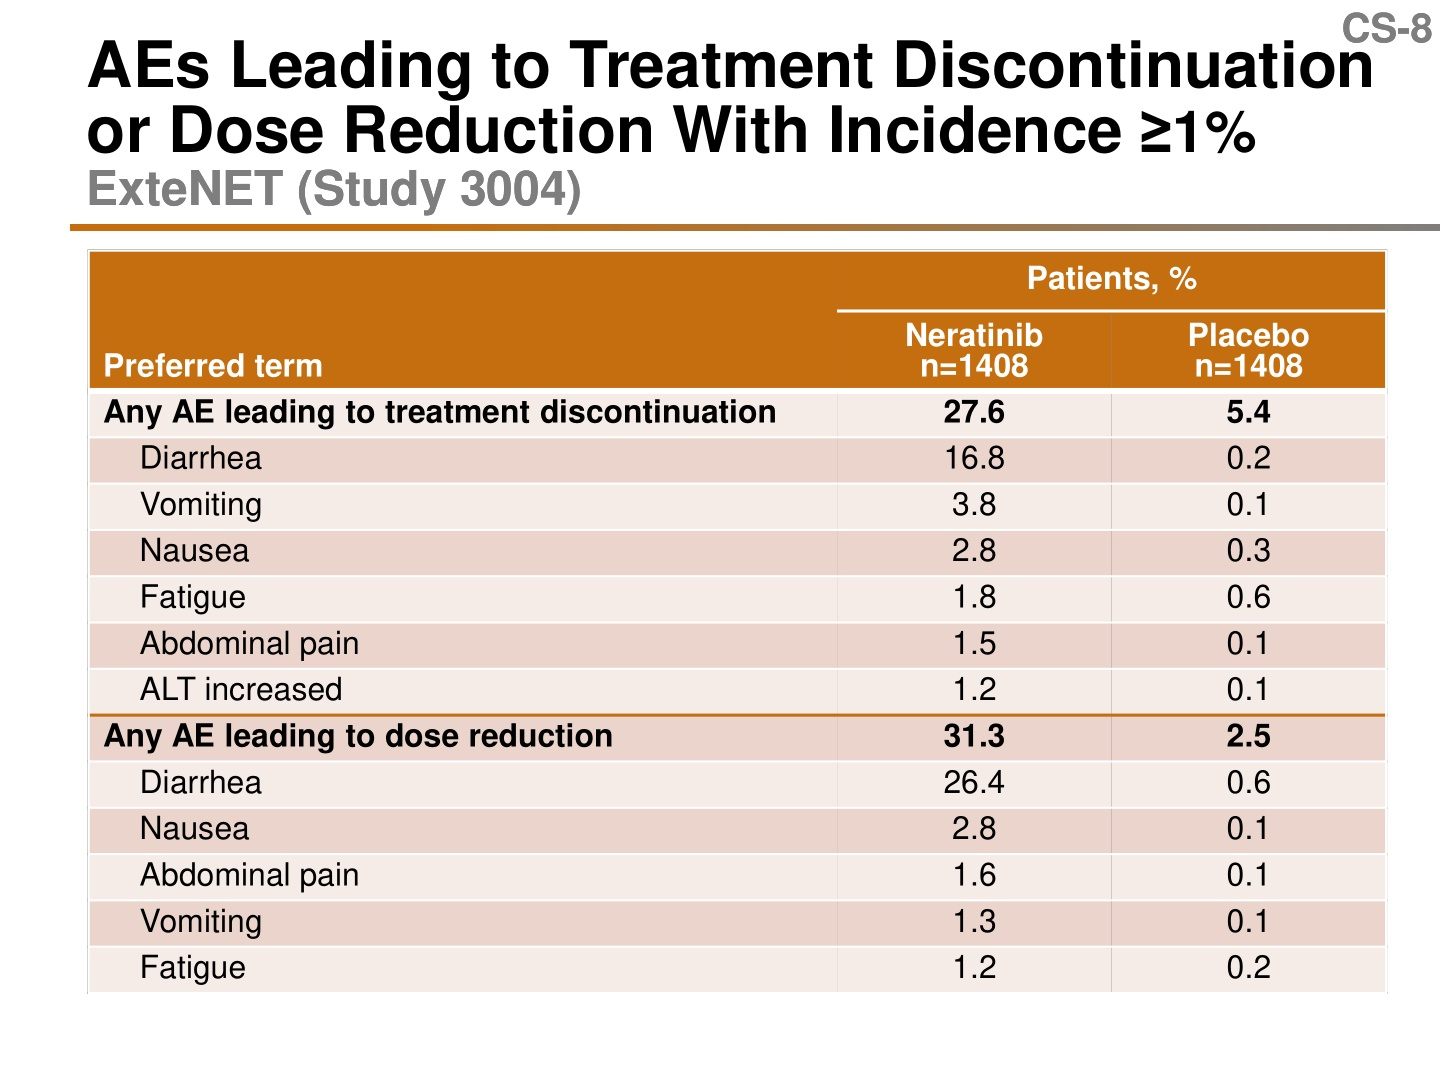partial_lined_merged_cells: (88, 248, 1388, 995)
